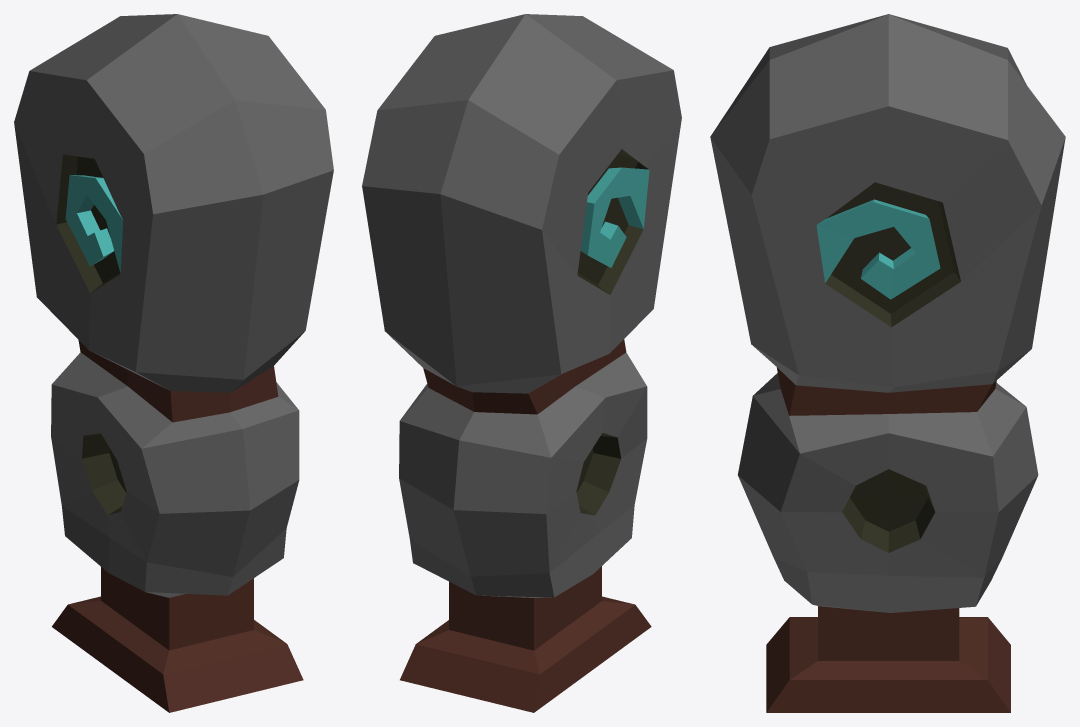
Rendered from Stone1.fbx.
The picture shows the model from 3 angles, left to right: view 1: azimuth 30°, elevation 25°; view 2: azimuth 150°, elevation 25°; view 3: azimuth 270°, elevation 25°; orthographic projection. The views are drawn at different scales.
Visible parts, largest first — view 1: Stone1; view 2: Stone1; view 3: Stone1.
Part boxes in pixels (bbox=[...]): Stone1: bbox=[14, 14, 333, 712]; Stone1: bbox=[362, 14, 681, 712]; Stone1: bbox=[710, 14, 1065, 712].
Bounding box in the file's own units: 126 × 423 × 205.
